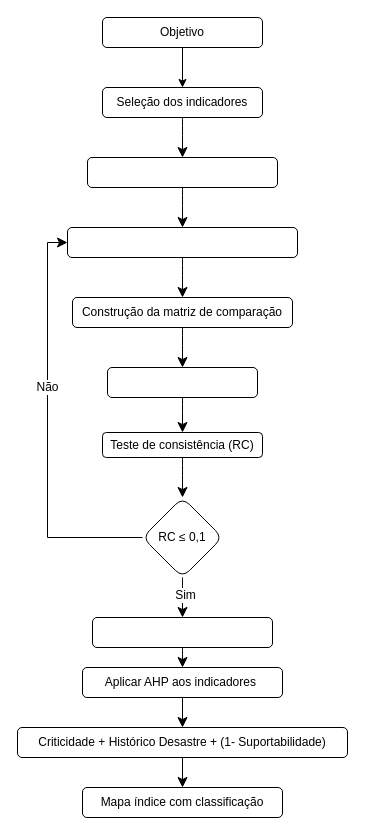
The diagram is 365 pixels wide and 835 high, and some of its shapes have lost their labels. The shapes that lost their labels are listed below. From the top down, each one's centre as x and y in pixels, then its label:
pixel 182 172: Avaliação dos indicadores
pixel 182 242: Valor de preferência para cada indicador
pixel 182 382: Cálculo do vetor de Eigen
pixel 182 632: Normalização dos indicadores
